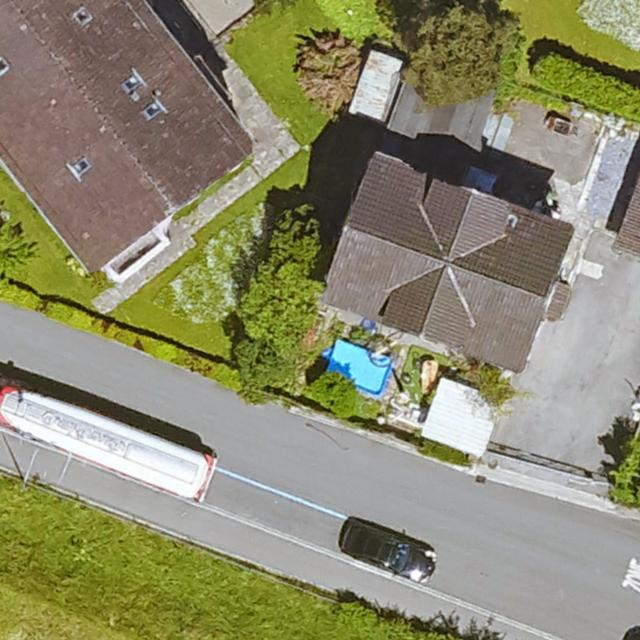tree: (235, 211, 321, 402), (405, 8, 497, 102)
